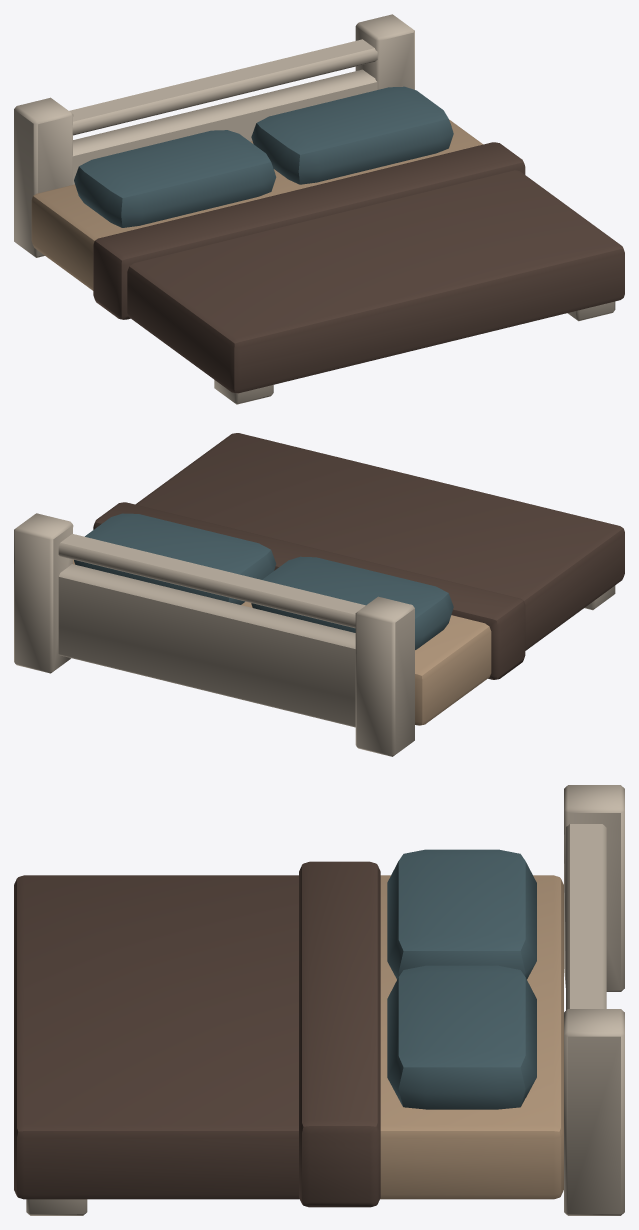
Rendered from bed_double_A.obj.
The picture shows the model from 3 angles, top to bottom: view 1: azimuth 30°, elevation 25°; view 2: azimuth 150°, elevation 25°; view 3: azimuth 270°, elevation 25°; orthographic projection. The views are drawn at different scales.
Visible parts, largest first — view 1: bed_double_A_Cube.037; view 2: bed_double_A_Cube.037; view 3: bed_double_A_Cube.037.
Part boxes in pixels (box(x1,y1,x2,y2)): bed_double_A_Cube.037: box(14, 14, 624, 404); bed_double_A_Cube.037: box(14, 433, 624, 756); bed_double_A_Cube.037: box(14, 785, 624, 1215).
Size of the model in its own units: 3.1 by 1 by 3.
Materials: 1 (1 with a texture image).
